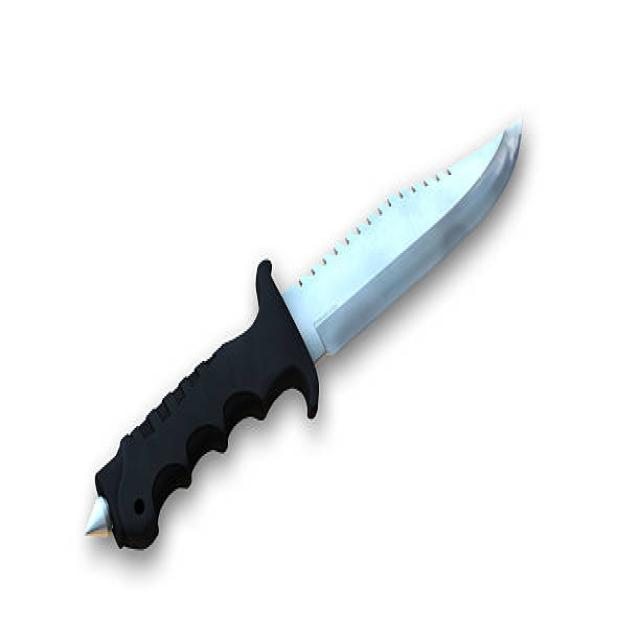knife: (69, 91, 550, 575)
